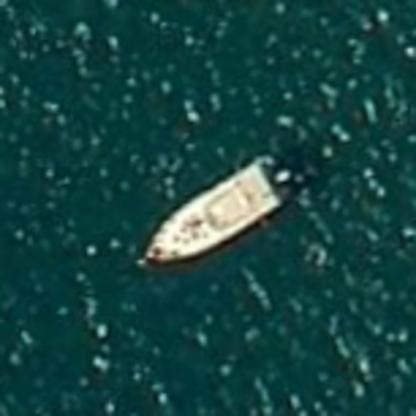ship: (130, 151, 288, 270)
